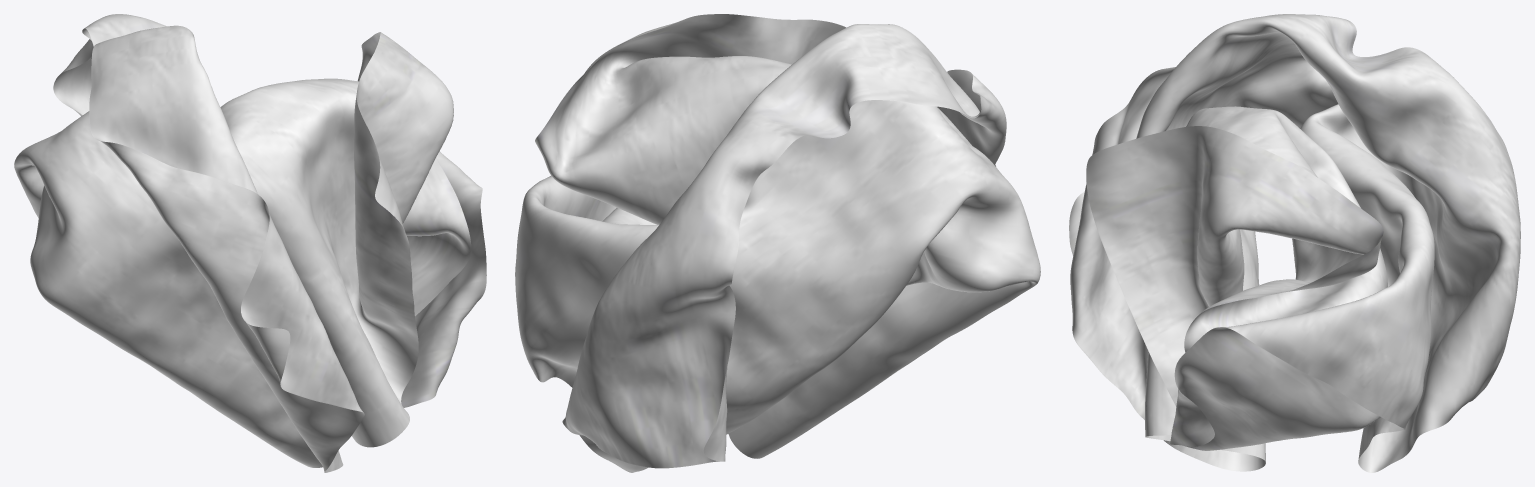
The model's file is tissuePaper.glb.
3 views of the same model, side by side, from view 1: azimuth 30°, elevation 25°; view 2: azimuth 150°, elevation 25°; view 3: azimuth 270°, elevation 25° (orthographic). The views are drawn at different scales.
Visible parts, largest first — view 1: paper_0; view 2: paper_0; view 3: paper_0.
Part boxes in pixels (box(x1,y1,x2,y2)): paper_0: box(14, 14, 486, 472); paper_0: box(515, 14, 1040, 472); paper_0: box(1069, 14, 1520, 472).
Bounding box in the file's own units: 1.94 × 1.85 × 1.86.
Materials: 2 (2 with a texture image).
